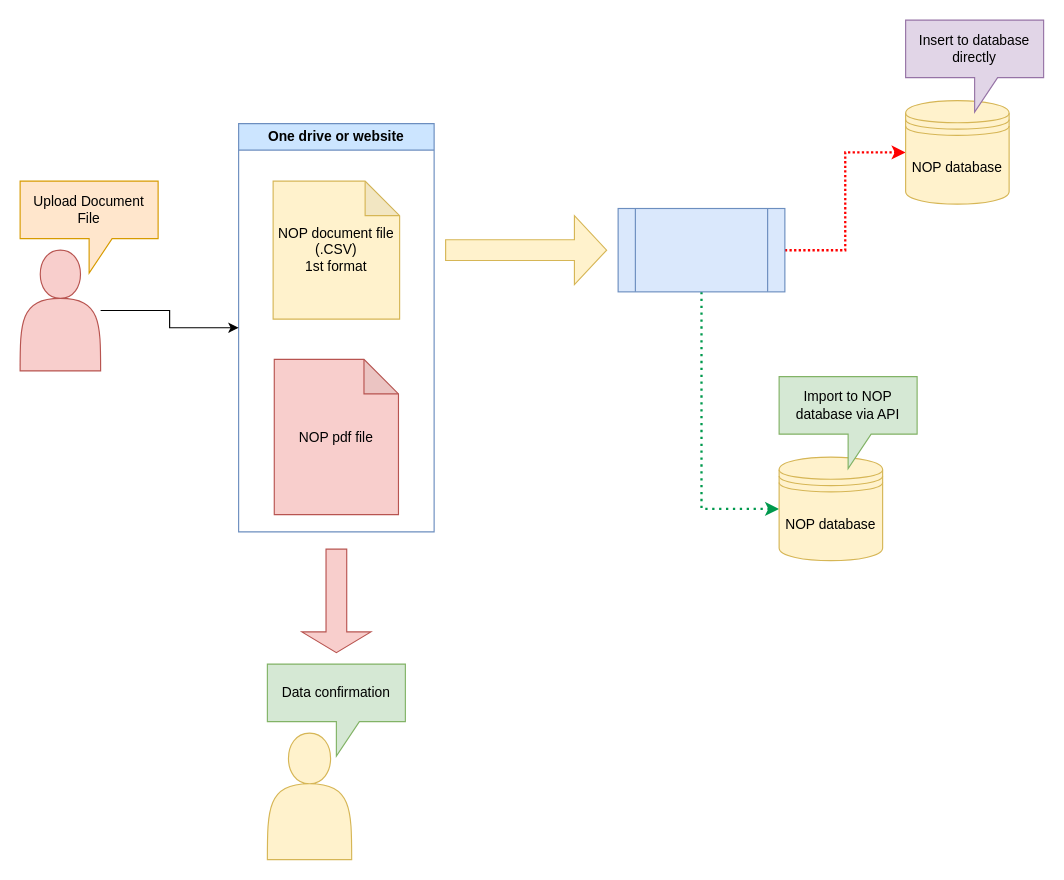
Some shapes in this 1064 by 880 pixel diagram are drawn without their labels. The shapes that lost their labels are listed below. From the top down, each one's centre as x and y in pixels, then its label:
At point 525,249: "Converted to .xlsx".
At point 701,249: "Extract data by using ETL system (SW EDW package)".
At point 60,310: "USER".
At point 309,796: "Accounting".
